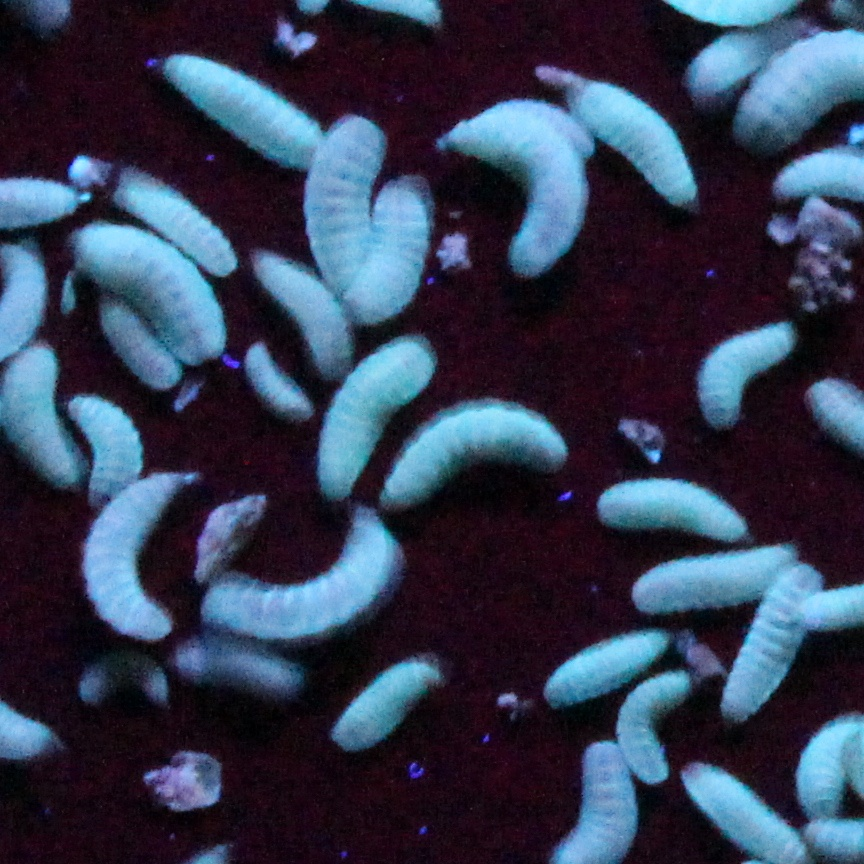larve: (155, 34, 315, 169), (375, 400, 566, 512), (449, 109, 575, 274), (192, 532, 389, 632), (569, 77, 712, 209), (301, 346, 429, 486), (81, 472, 181, 640), (95, 237, 232, 352), (106, 166, 238, 272), (698, 314, 801, 432), (723, 580, 815, 703), (326, 663, 452, 752), (686, 774, 821, 857), (629, 549, 798, 612), (535, 623, 661, 706), (315, 117, 369, 292), (592, 483, 764, 537), (355, 183, 426, 312), (58, 394, 141, 497), (98, 309, 183, 386), (241, 337, 306, 414)
